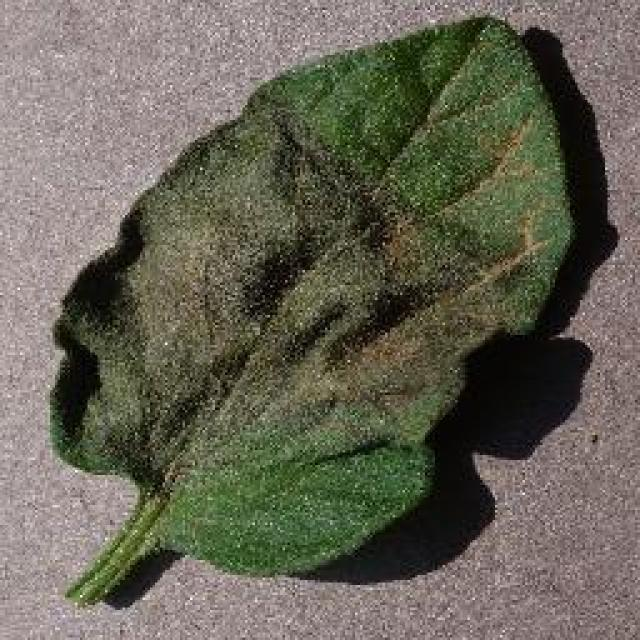leaf blight: (47, 14, 576, 599)
